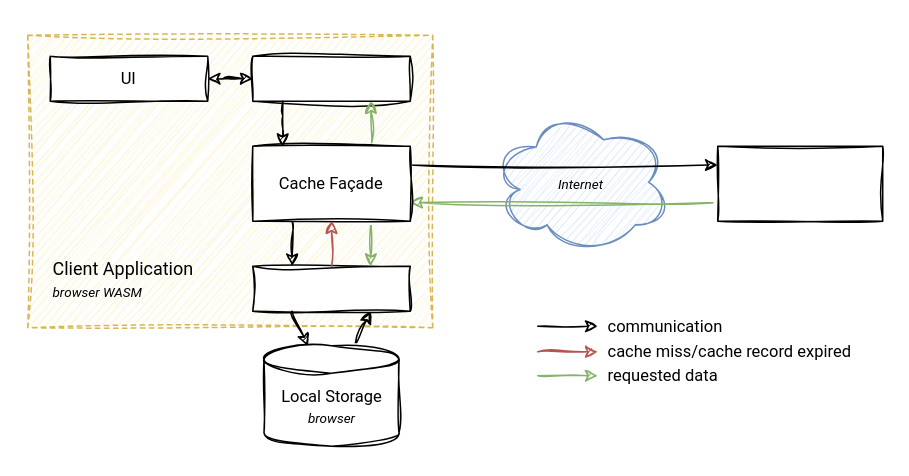
This 909x476 diagram has some shape labels left out. Each missing label, with the box of its shape:
API backend server: (716, 145, 883, 221)
Cache Service: (251, 265, 410, 311)
DAL Service: (251, 55, 410, 101)
